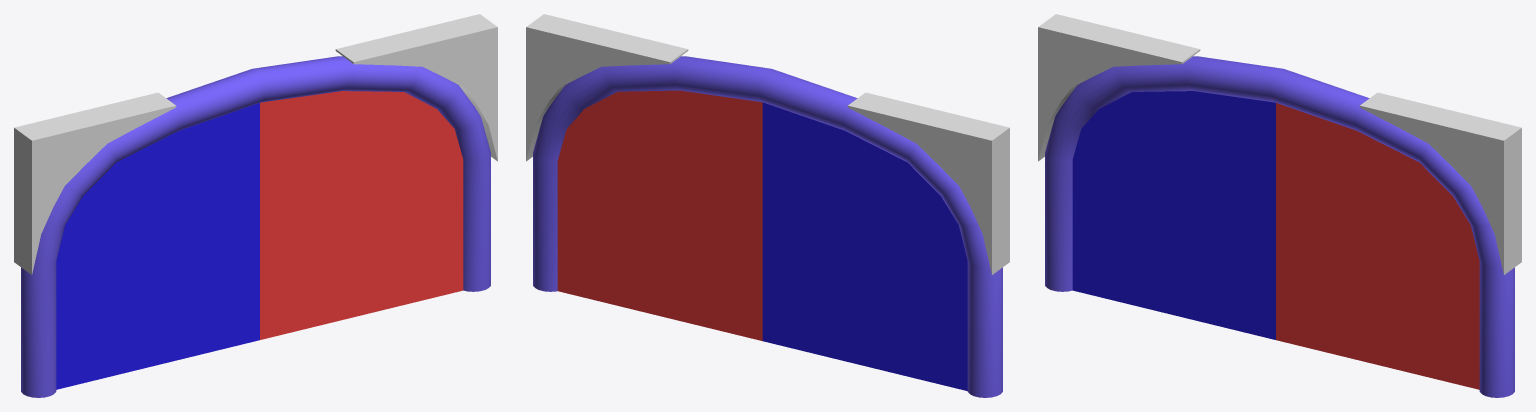
File: OLD_Arch_Combined.FBX
The picture shows the model from 3 angles, left to right: view 1: azimuth 30°, elevation 25°; view 2: azimuth 150°, elevation 25°; view 3: azimuth 330°, elevation 25°; orthographic projection.
Parts seen in each view (by area): view 1: Door_Right, Door_Left, Archway, Arch_top; view 2: Door_Left, Door_Right, Archway, Arch_top; view 3: Door_Left, Door_Right, Archway, Arch_top.
Part boxes in pixels (x1=…): Door_Right: x1=260, y1=91, x2=463, y2=339; Door_Left: x1=56, y1=103, x2=259, y2=389; Archway: x1=21, y1=56, x2=490, y2=397; Arch_top: x1=14, y1=14, x2=497, y2=274; Door_Left: x1=762, y1=102, x2=967, y2=390; Door_Right: x1=557, y1=90, x2=762, y2=340; Archway: x1=533, y1=56, x2=1002, y2=397; Arch_top: x1=526, y1=14, x2=1009, y2=274; Door_Left: x1=1072, y1=91, x2=1275, y2=339; Door_Right: x1=1276, y1=103, x2=1479, y2=389; Archway: x1=1045, y1=56, x2=1514, y2=397; Arch_top: x1=1038, y1=14, x2=1521, y2=274.
Size of the model in its own units: 7.5 by 4.11 by 0.5.
